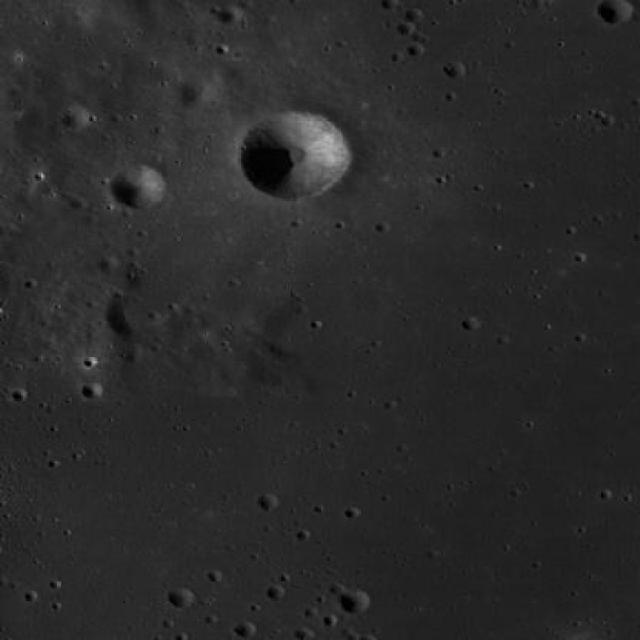crater: (238, 112, 348, 200), (256, 304, 330, 362), (106, 291, 165, 337), (109, 164, 166, 210), (174, 67, 223, 107), (597, 0, 631, 23), (338, 588, 368, 614), (59, 106, 90, 129), (166, 585, 192, 607), (216, 4, 241, 24), (95, 254, 118, 274), (257, 492, 280, 510), (234, 619, 256, 636), (122, 344, 144, 361), (81, 382, 102, 398)
